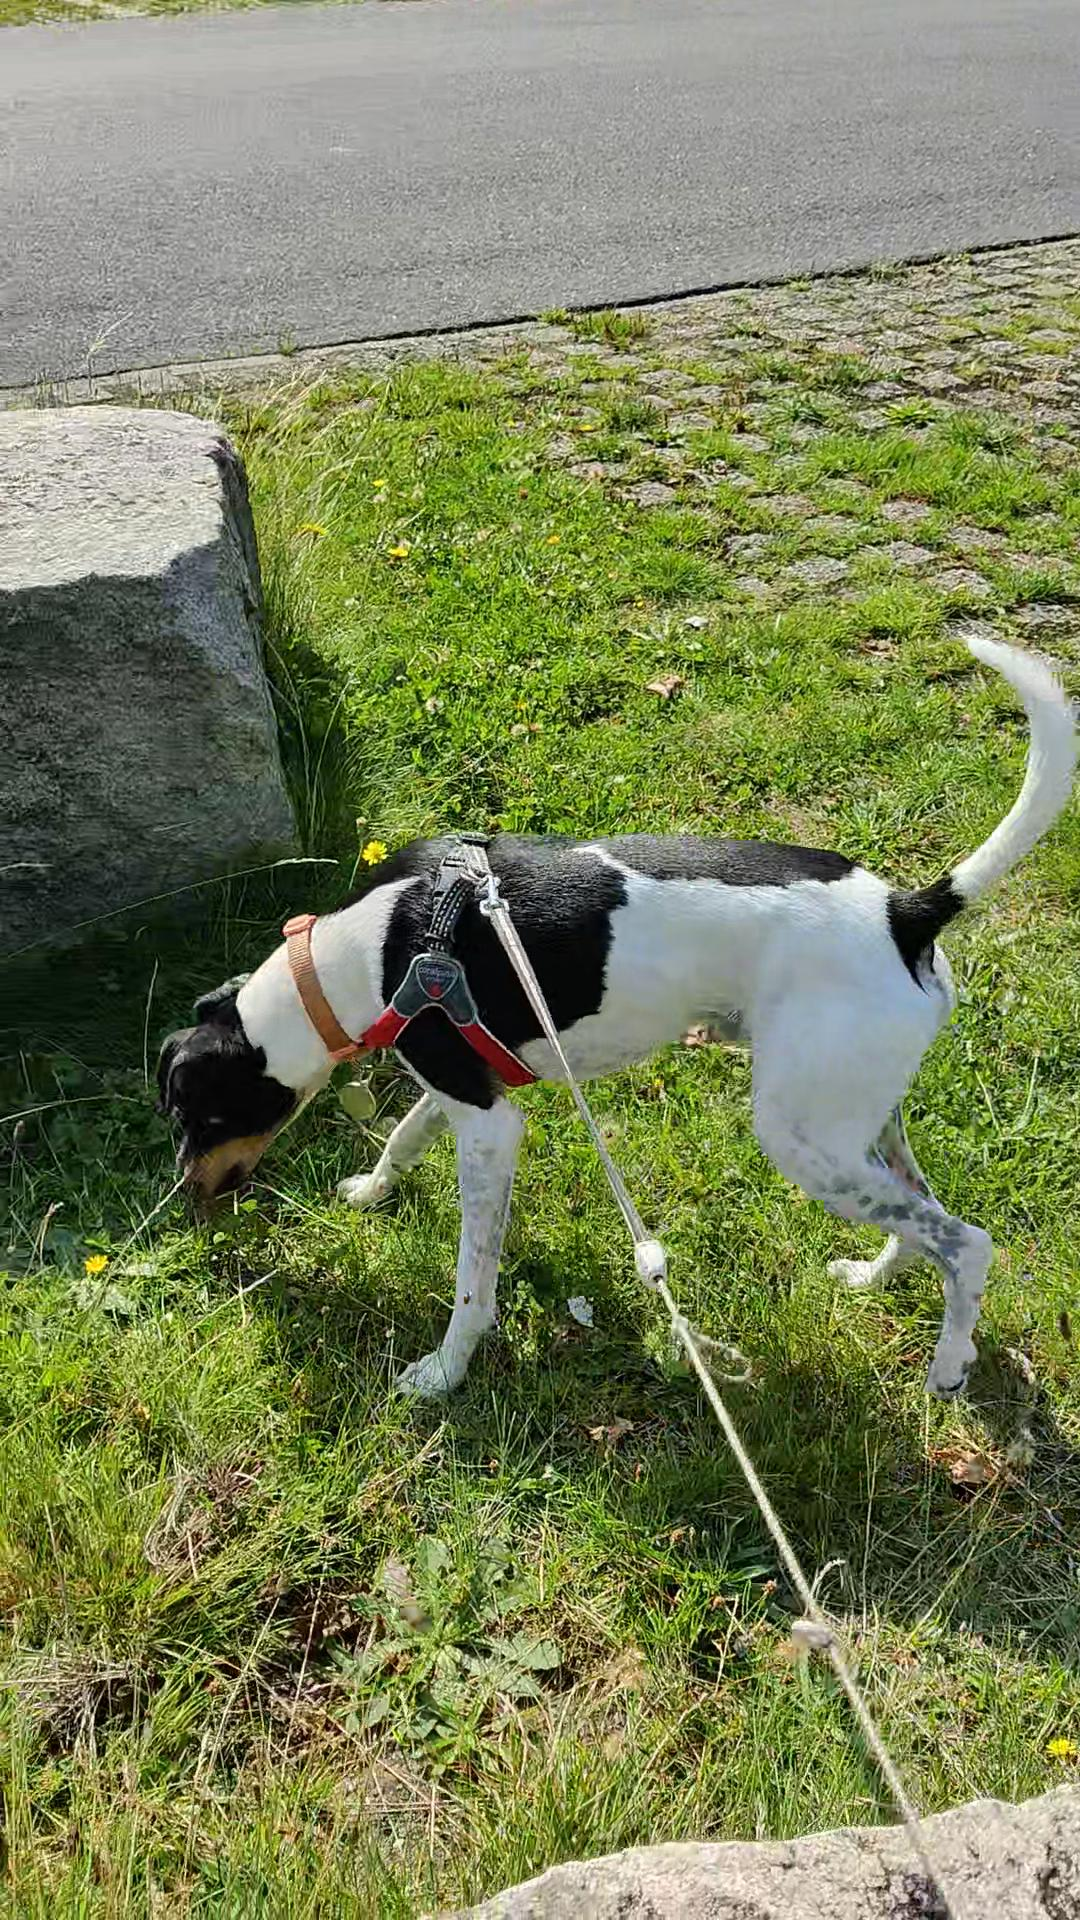Dog: (152, 630, 1079, 1403)
